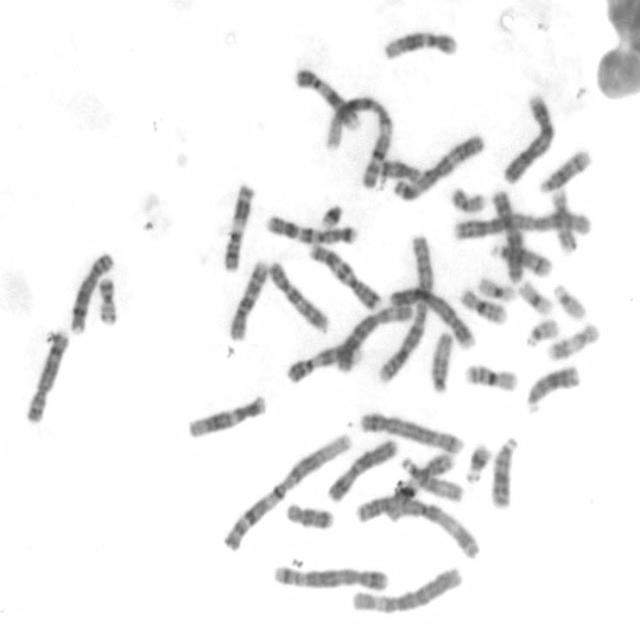A1: (218, 428, 356, 554), (321, 89, 396, 191)
A2: (375, 228, 436, 384), (451, 208, 593, 242)
A3: (351, 490, 480, 560), (390, 128, 488, 202)
B4: (384, 281, 478, 352), (499, 89, 556, 185)
B5: (356, 407, 465, 455), (270, 560, 390, 594)
C10: (264, 255, 332, 334), (226, 254, 272, 342)
C11: (383, 449, 457, 524), (219, 179, 256, 273)
C12: (183, 390, 270, 440), (378, 26, 460, 61)
C6: (349, 564, 465, 616), (335, 301, 415, 374)
C7: (304, 240, 384, 311), (263, 210, 359, 247)
C8: (20, 325, 71, 423), (66, 245, 116, 335)
C9: (290, 63, 363, 132), (282, 337, 363, 385)
D13: (523, 360, 583, 415), (486, 431, 521, 512)
D14: (535, 144, 593, 195), (488, 238, 554, 278)
D15: (398, 451, 466, 504), (426, 327, 455, 395)
E16: (456, 283, 509, 326), (459, 358, 521, 393)
E17: (542, 317, 601, 362), (548, 185, 580, 254)
E18: (282, 498, 335, 531), (376, 154, 424, 185)
F19: (515, 276, 554, 317), (475, 272, 517, 303)
F20: (94, 272, 119, 327), (447, 183, 488, 215)
G21: (461, 439, 494, 484), (316, 198, 345, 230)
G22: (549, 279, 589, 322), (522, 312, 560, 348)
X: (326, 434, 400, 504), (488, 185, 525, 284)
